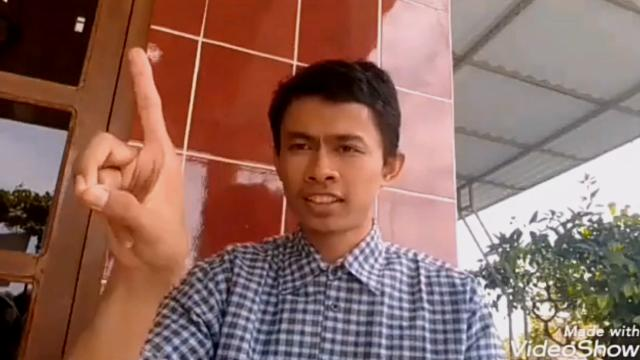D: (66, 46, 202, 272)
